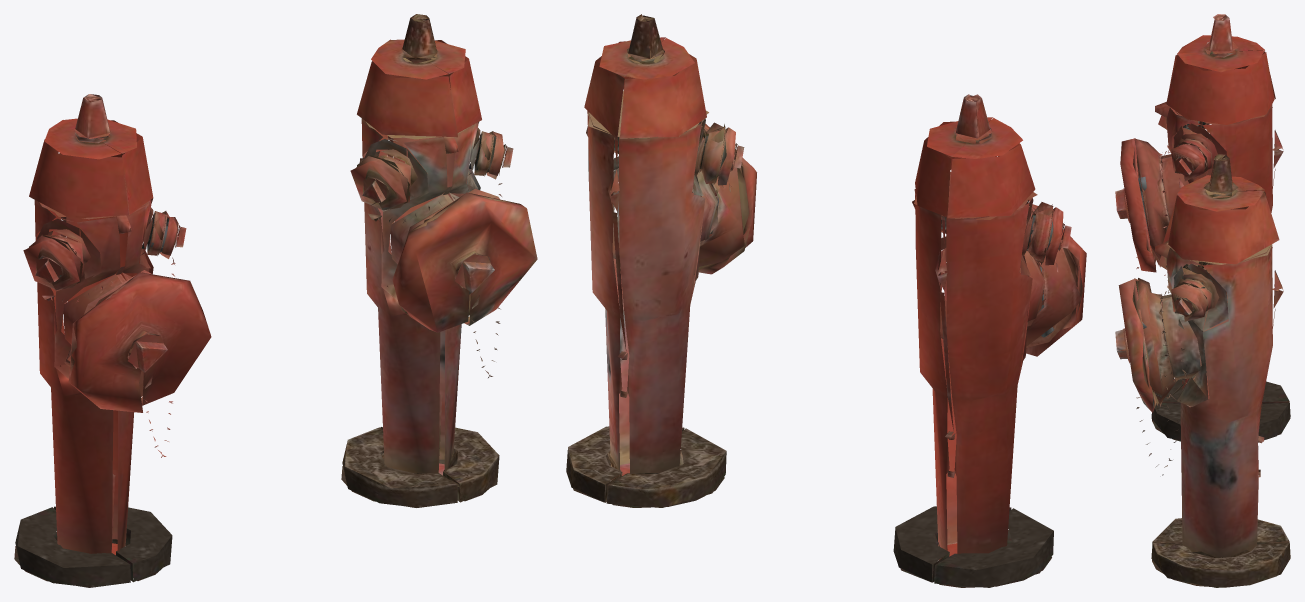
File: fire_hydrant.gltf
3 renders of one model, left to right at view 1: azimuth 30°, elevation 25°; view 2: azimuth 150°, elevation 25°; view 3: azimuth 270°, elevation 25°, orthographic. The views are drawn at different scales.
Parts seen in each view (by area): view 1: fire_hydrant; view 2: fire_hydrant; view 3: fire_hydrant.
Boxes of the visible parts, <box> form: fire_hydrant: <box>14,14,537,587</box>; fire_hydrant: <box>566,14,1086,587</box>; fire_hydrant: <box>1115,14,1290,587</box>.
Size of the model in its own units: 0.8777 by 0.8005 by 0.3173.
Materials: 2 (2 with a texture image).
